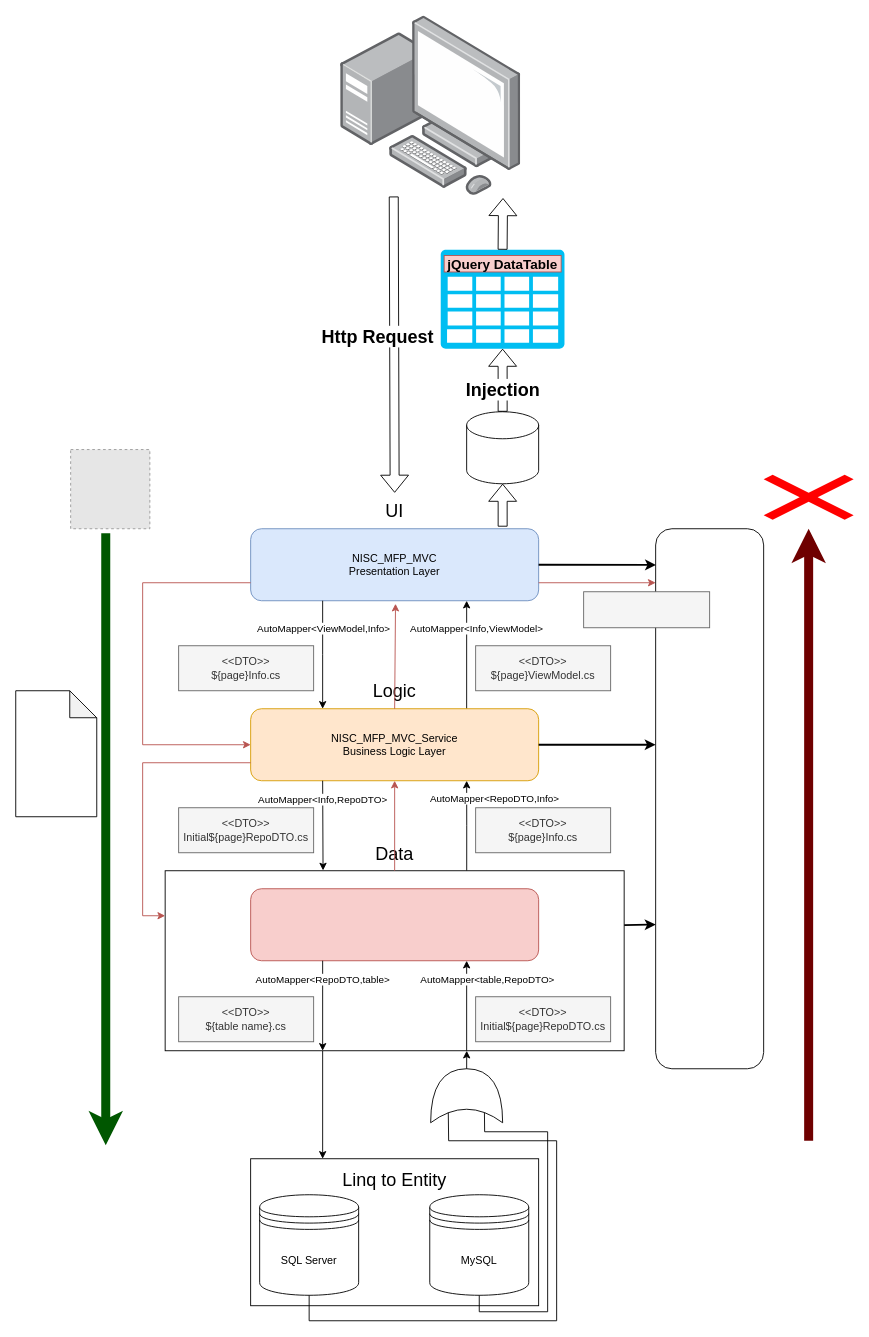
The diagram is 869 pixels wide and 1337 high, and some of its shapes have lost their labels. Grey dashed boxes stand in for pictures. Here are the shapes that lost their labels. From the top down, the centre of each, then its label:
point 502,447: Filtered Data
point 646,609: <<HttpRequest Model>> DataTableRequest.cs
point 56,753: 上層能存取下層，反之下層無法存取上層
point 709,798: NISC_MFP_MVC _Common
point 394,924: NISC_MFP_MVC_Repository Data Access Layer
point 466,1095: OR
